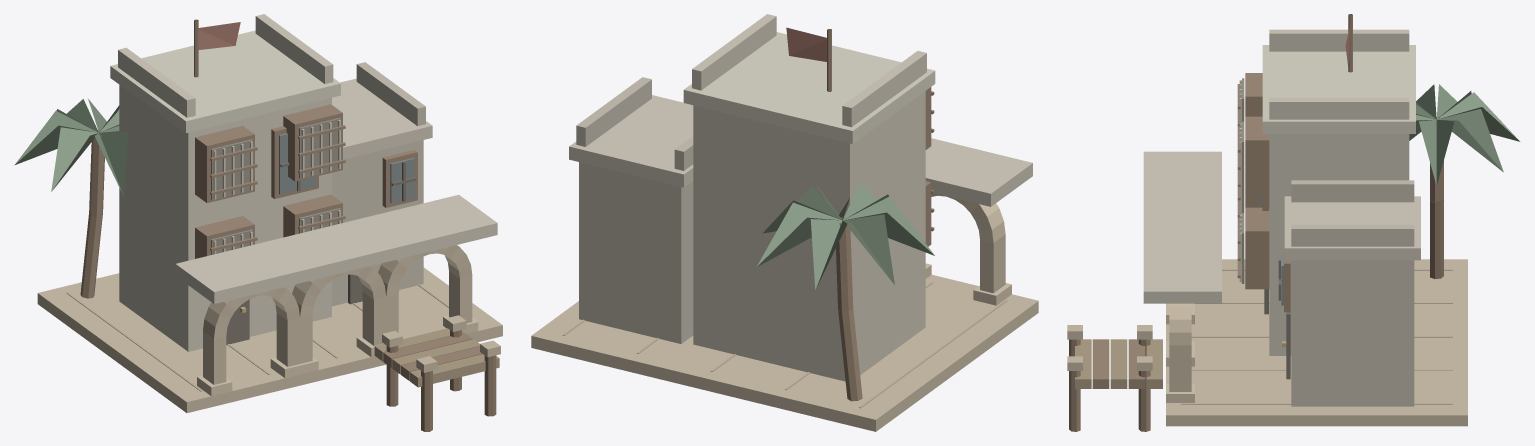
3 renders of one model, left to right at view 1: azimuth 30°, elevation 25°; view 2: azimuth 150°, elevation 25°; view 3: azimuth 270°, elevation 25°, orthographic. The views are drawn at different scales.
Visible parts, largest first — view 1: S24; view 2: S24; view 3: S24.
Boxes of the visible parts, box(x1,y1,x2,y2) form: S24: box(14, 14, 502, 431); S24: box(531, 14, 1038, 431); S24: box(1067, 14, 1520, 431).
Size of the model in its own units: 3.51 by 3.32 by 4.05.
